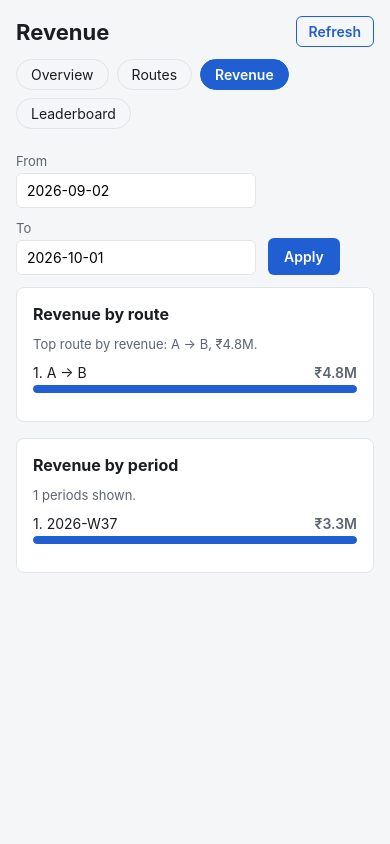
Test: RevenueView › blocks the fetch and shows an error when start is after end
Expected: the text "₹4.8M" is shown, top-left (314, 364), bottom-right (357, 381)
Replace the text in the field with test id "revenue-from" with "2026-09-30" at (136, 190), box top-left (16, 173), bottom-right (256, 208)
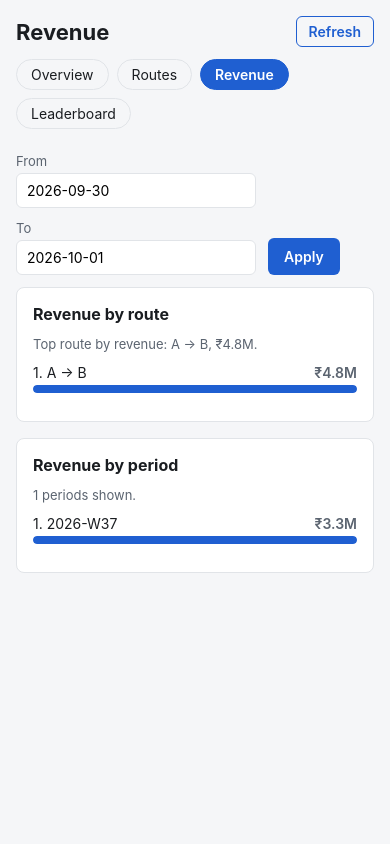
Replace the text in the field with test id "revenue-to" with "2026-09-01" at (136, 258), box top-left (16, 240), bottom-right (256, 275)
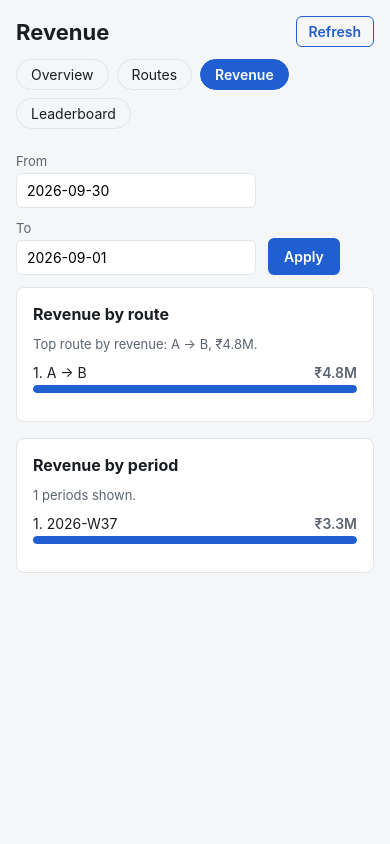
Click the button with test id "revenue-apply" at (304, 256), box top-left (268, 238), bottom-right (340, 275)
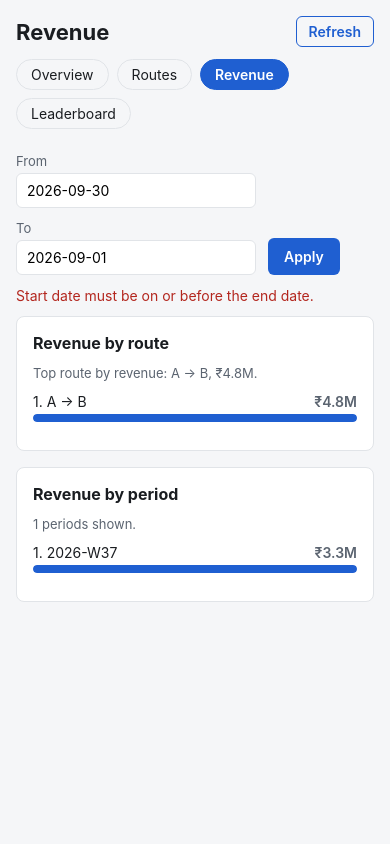
Expected: the message "Start date must be on or before the end date." is shown, top-left (16, 287), bottom-right (314, 304)
